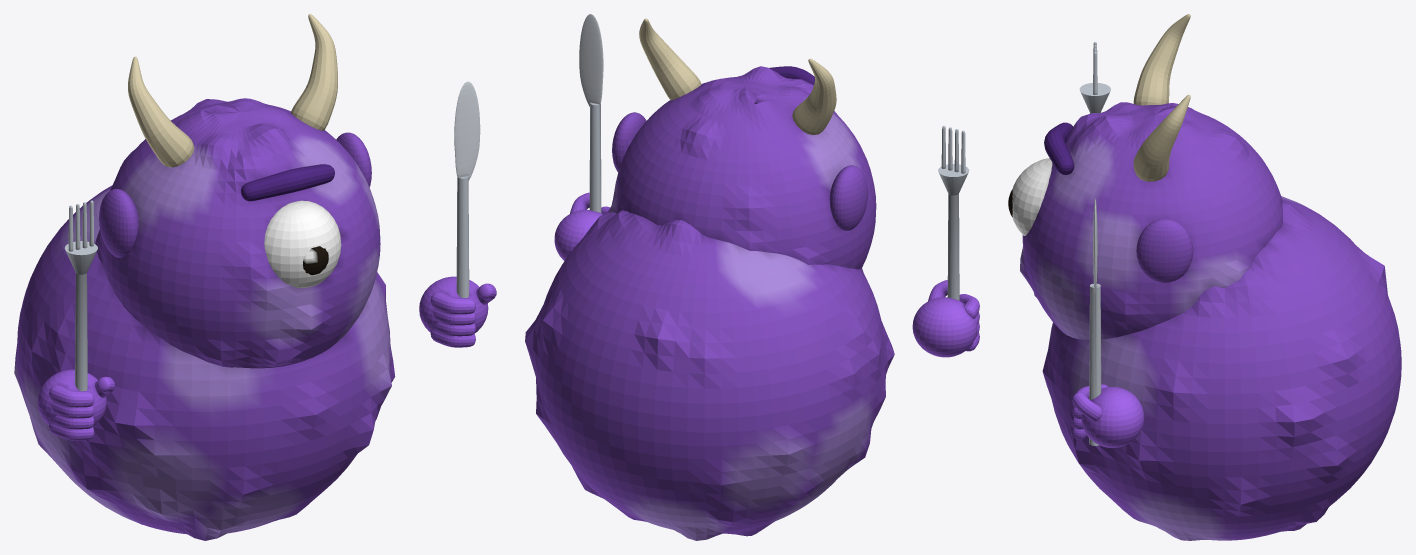
The model's file is monster.glb.
The picture shows the model from 3 angles, left to right: view 1: azimuth 30°, elevation 25°; view 2: azimuth 150°, elevation 25°; view 3: azimuth 270°, elevation 25°; orthographic projection. The views are drawn at different scales.
Parts seen in each view (by area): view 1: mavekrop, kranie, hvide_v, horn-1, horn1, oere-1, blad_h, bryn, skaft_h, skaft_v, haandflade_h, haandflade_v (+5 smaller); view 2: mavekrop, kranie, haandflade_v, horn1, oere-1, horn-1, blad_h, skaft_h, haandflade_h, skaft_v, oere1, gaffelhals_v; view 3: mavekrop, kranie, oere1, haandflade_h, horn-1, horn1, hvide_v, skaft_h, bryn, gaffelhals_v, tommel_h.
Boxes of the visible parts, x1=… form: mavekrop: x1=14, y1=185, x2=395, y2=540; kranie: x1=95, y1=98, x2=380, y2=368; hvide_v: x1=264, y1=200, x2=341, y2=287; horn-1: x1=128, y1=56, x2=194, y2=167; horn1: x1=291, y1=14, x2=337, y2=130; oere-1: x1=99, y1=189, x2=138, y2=257; blad_h: x1=454, y1=81, x2=480, y2=180; bryn: x1=241, y1=164, x2=334, y2=201; skaft_h: x1=456, y1=175, x2=469, y2=297; skaft_v: x1=75, y1=273, x2=87, y2=391; haandflade_h: x1=419, y1=276, x2=488, y2=333; haandflade_v: x1=37, y1=369, x2=106, y2=426; mavekrop: x1=525, y1=206, x2=894, y2=540; kranie: x1=610, y1=66, x2=876, y2=269; haandflade_v: x1=912, y1=297, x2=977, y2=357; horn1: x1=639, y1=18, x2=701, y2=100; oere-1: x1=829, y1=165, x2=868, y2=230; horn-1: x1=792, y1=58, x2=836, y2=134; blad_h: x1=579, y1=14, x2=603, y2=106; skaft_h: x1=589, y1=102, x2=601, y2=212; haandflade_h: x1=554, y1=210, x2=602, y2=260; skaft_v: x1=947, y1=194, x2=959, y2=300; oere1: x1=612, y1=112, x2=646, y2=172; gaffelhals_v: x1=938, y1=164, x2=969, y2=195; mavekrop: x1=1042, y1=196, x2=1401, y2=540; kranie: x1=1020, y1=102, x2=1282, y2=339; oere1: x1=1136, y1=219, x2=1193, y2=282; haandflade_h: x1=1081, y1=387, x2=1144, y2=447; horn-1: x1=1133, y1=14, x2=1190, y2=105; horn1: x1=1133, y1=94, x2=1190, y2=181; hvide_v: x1=1012, y1=158, x2=1052, y2=235; skaft_h: x1=1089, y1=283, x2=1101, y2=445; bryn: x1=1044, y1=122, x2=1074, y2=174; gaffelhals_v: x1=1079, y1=83, x2=1110, y2=113; tommel_h: x1=1072, y1=392, x2=1102, y2=420.
Size of the model in its own units: 15.3 by 16.64 by 12.46.
